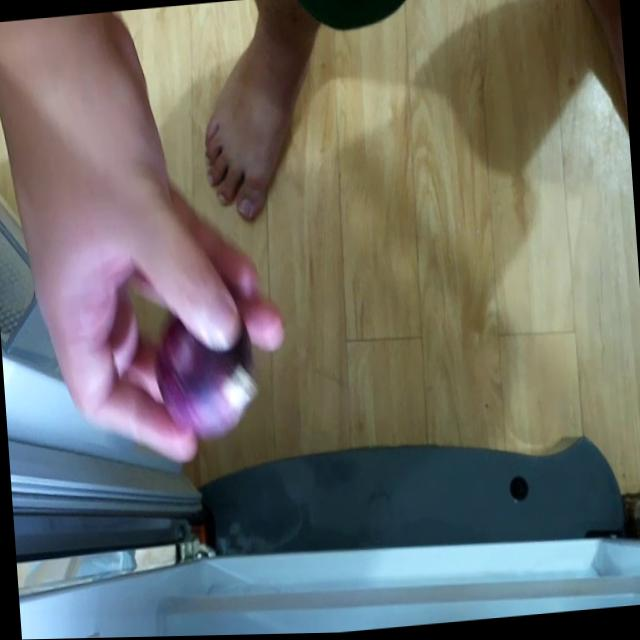onion: (147, 303, 261, 434)
